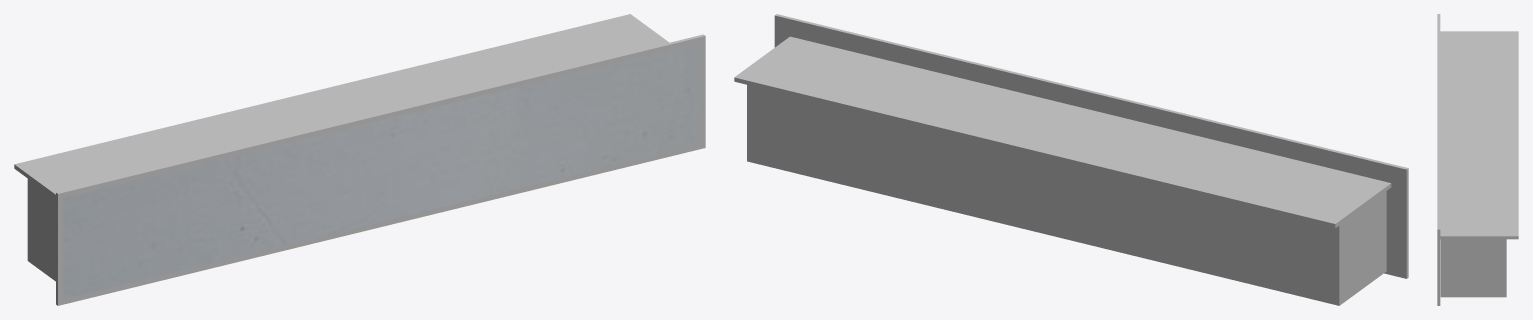
The picture shows the model from 3 angles, left to right: view 1: azimuth 30°, elevation 25°; view 2: azimuth 150°, elevation 25°; view 3: azimuth 270°, elevation 25°; orthographic projection. The views are drawn at different scales.
Parts seen in each view (by area): view 1: ms_h03_k_a; view 2: ms_h03_k_a; view 3: ms_h03_k_a.
Boxes of the visible parts, x1,y1,x2,y2 form: ms_h03_k_a: (14,14,705,305); ms_h03_k_a: (734,14,1408,305); ms_h03_k_a: (1437,14,1518,305).
Bounding box in the file's own units: 564 × 93.23 × 89.62.
